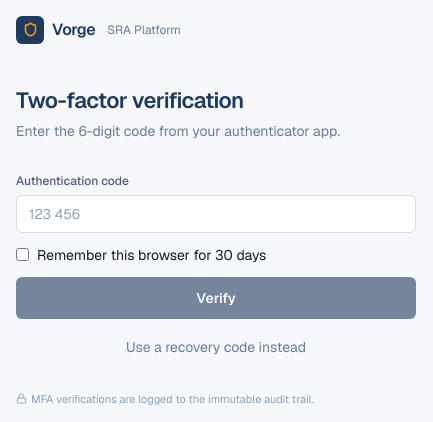
Test: MfaVerifyPage › toggle to recovery-code mode swaps the UI
The image size is (433, 422).
Click the button "Use a recovery code instead" at (216, 347), box [126,337,306,357]
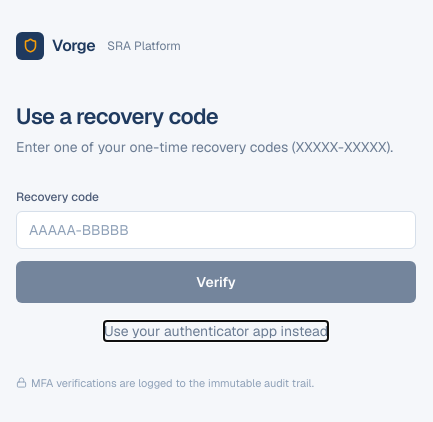
Expected: the field labelled "Recovery code" is shown, [16,211,416,249]
Now the heading "Use a recovery code" is shown, box [16,102,218,130]
